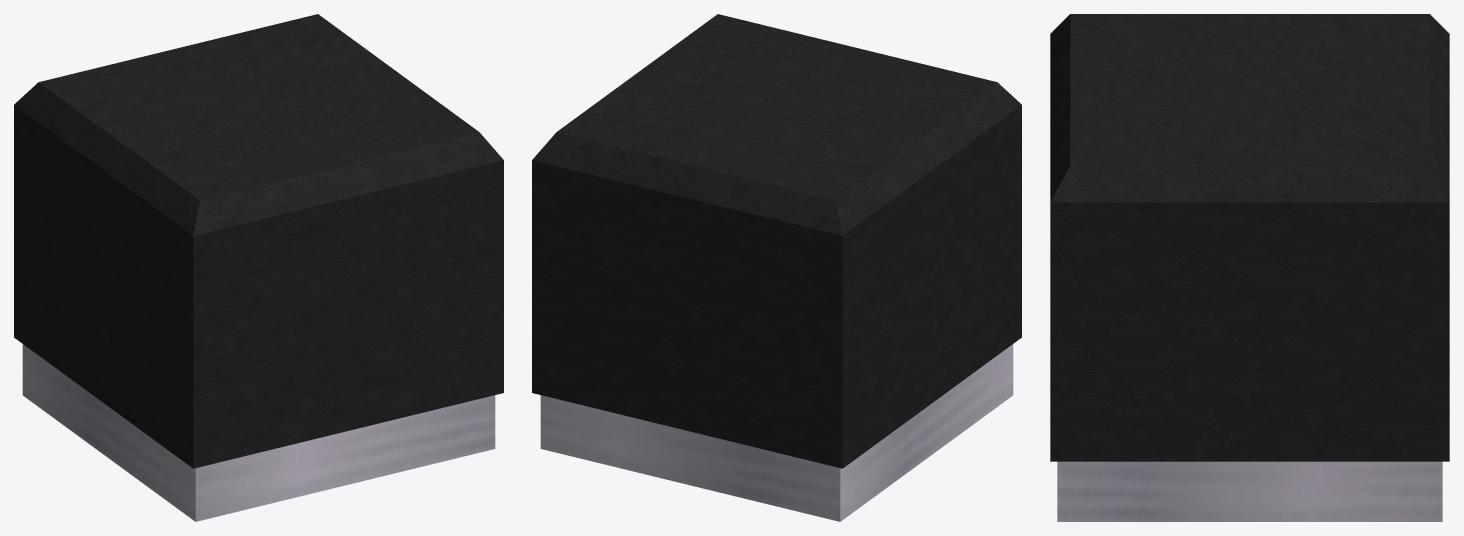
File: Stool1.fbx
The picture shows the model from 3 angles, left to right: view 1: azimuth 30°, elevation 25°; view 2: azimuth 150°, elevation 25°; view 3: azimuth 270°, elevation 25°; orthographic projection. The views are drawn at different scales.
Visible parts, largest first — view 1: Empty_Mesh; view 2: Empty_Mesh; view 3: Empty_Mesh.
Part boxes in pixels (bbox=[...]): Empty_Mesh: bbox=[14, 14, 503, 521]; Empty_Mesh: bbox=[532, 14, 1021, 521]; Empty_Mesh: bbox=[1050, 14, 1449, 521].
Size of the model in its own units: 58.5 by 56.68 by 58.5.
